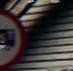Heavy Vehicles: (1, 7, 29, 70)
